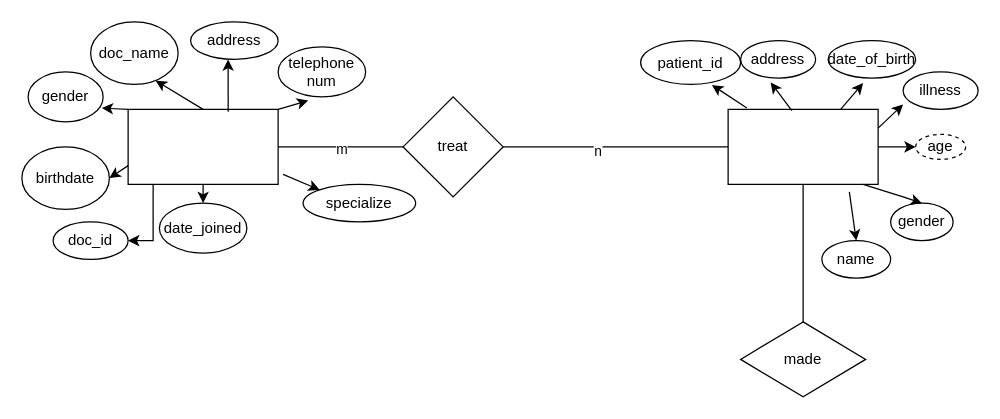
This 1000x419 diagram has some shape labels left out. The shapes that lost their labels are listed below. From the top down, each one's centre as x and y in pixels, then its label:
At point (202, 146): "doctor".
At point (802, 146): "patient".
